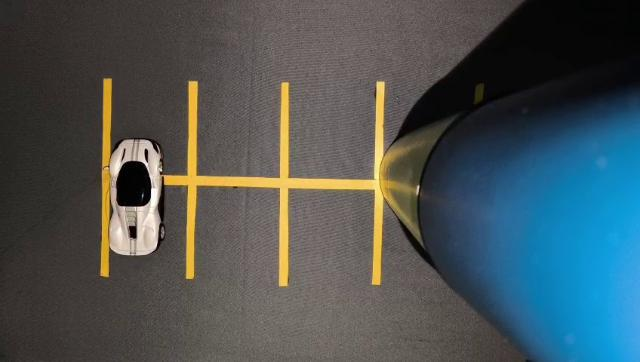toy_car: (65, 106, 220, 273)
